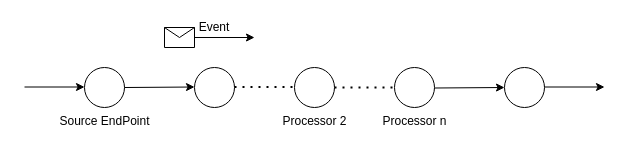
Some shapes in this 630 by 145 pixel diagram are drawn without their labels. The shapes that lost their labels are listed below. From the top down, each one's centre as x and y in pixels, then its label:
At (214,87): "Processor 1".
At (524,87): "Target EndPoint".
